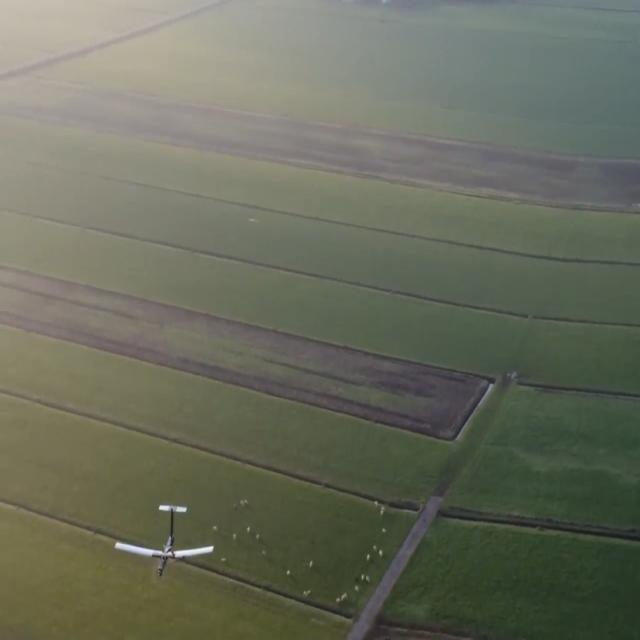iha: (147, 535, 186, 552)
